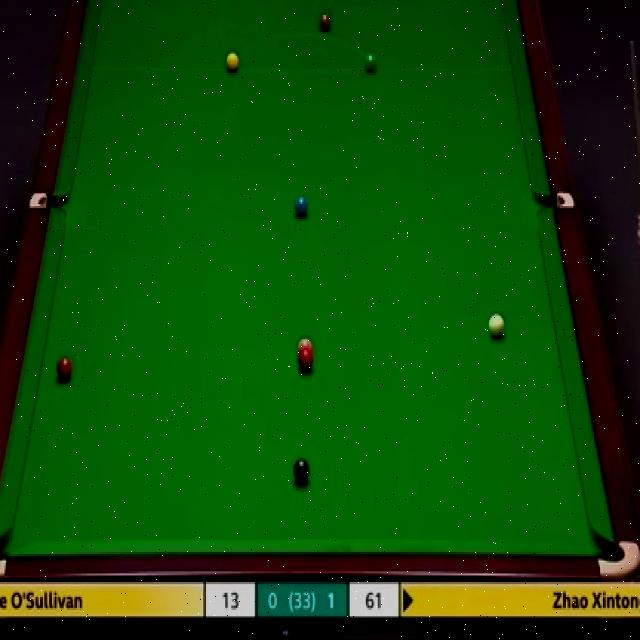black-ball: (293, 457, 310, 483)
blue-ball: (294, 193, 310, 216)
brown-ball: (318, 12, 331, 30)
green-ball: (363, 50, 377, 73)
pink-ball: (297, 336, 314, 354)
red-ball: (57, 356, 72, 379), (297, 352, 313, 370)
white-ball: (488, 311, 505, 339)
yellow-ball: (226, 52, 239, 73)
